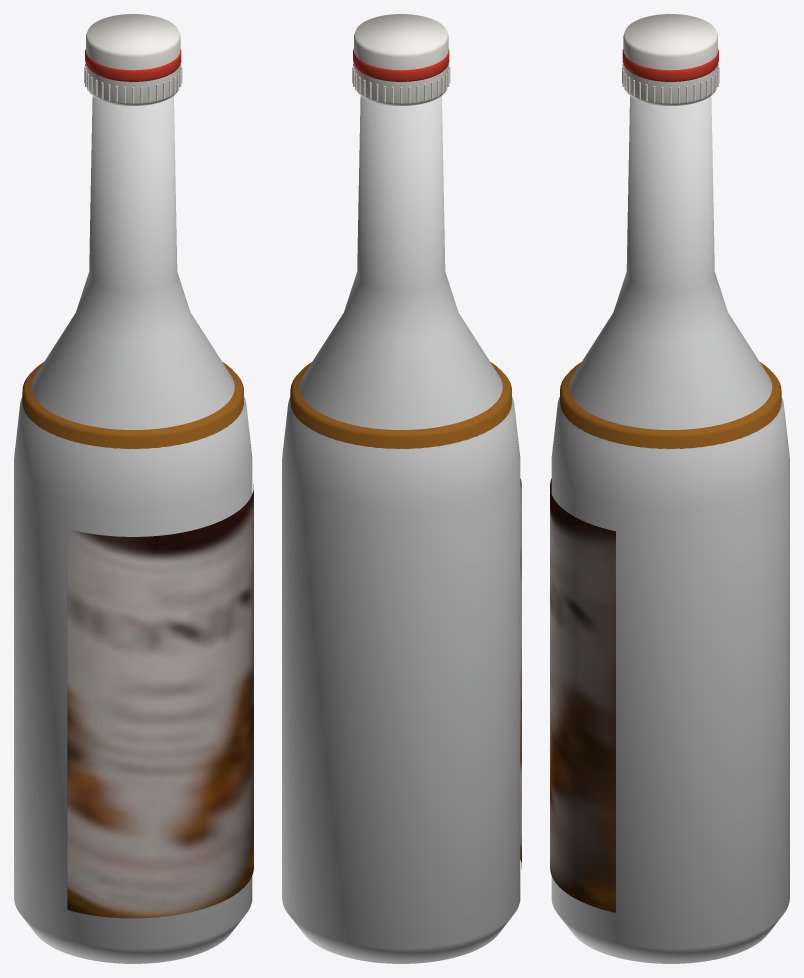
3 views of the same model, side by side, from view 1: azimuth 30°, elevation 25°; view 2: azimuth 150°, elevation 25°; view 3: azimuth 270°, elevation 25° (orthographic).
Visible parts, largest first — view 1: body, cap; view 2: body, cap; view 3: body, cap.
Part boxes in pixels (x1,y1,x2,y2): body: (14,96,253,963); cap: (84,14,182,105); body: (282,96,521,963); cap: (352,14,450,105); body: (550,96,789,963); cap: (622,14,719,105).
Bounding box in the file's own units: 0.0512 × 0.2104 × 0.0515.
5 materials, 1 textured.
